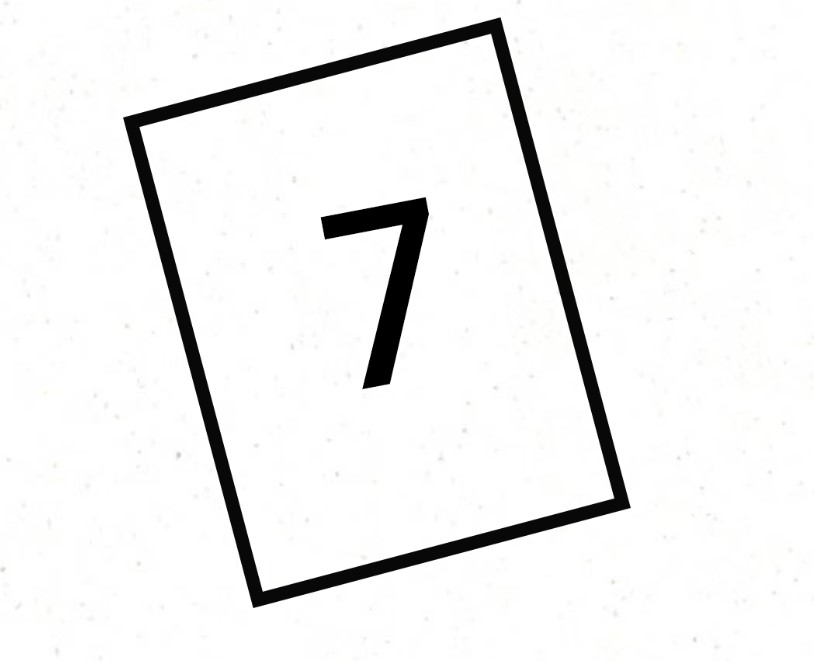seven: (248, 149, 502, 431)
